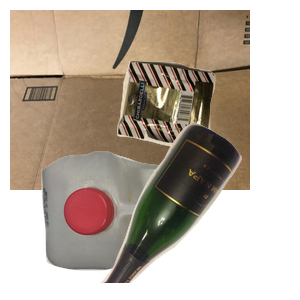cardboard: (10, 10, 250, 190)
glass: (87, 120, 300, 300)
plastic: (39, 149, 203, 300)
trash: (115, 58, 300, 200)
